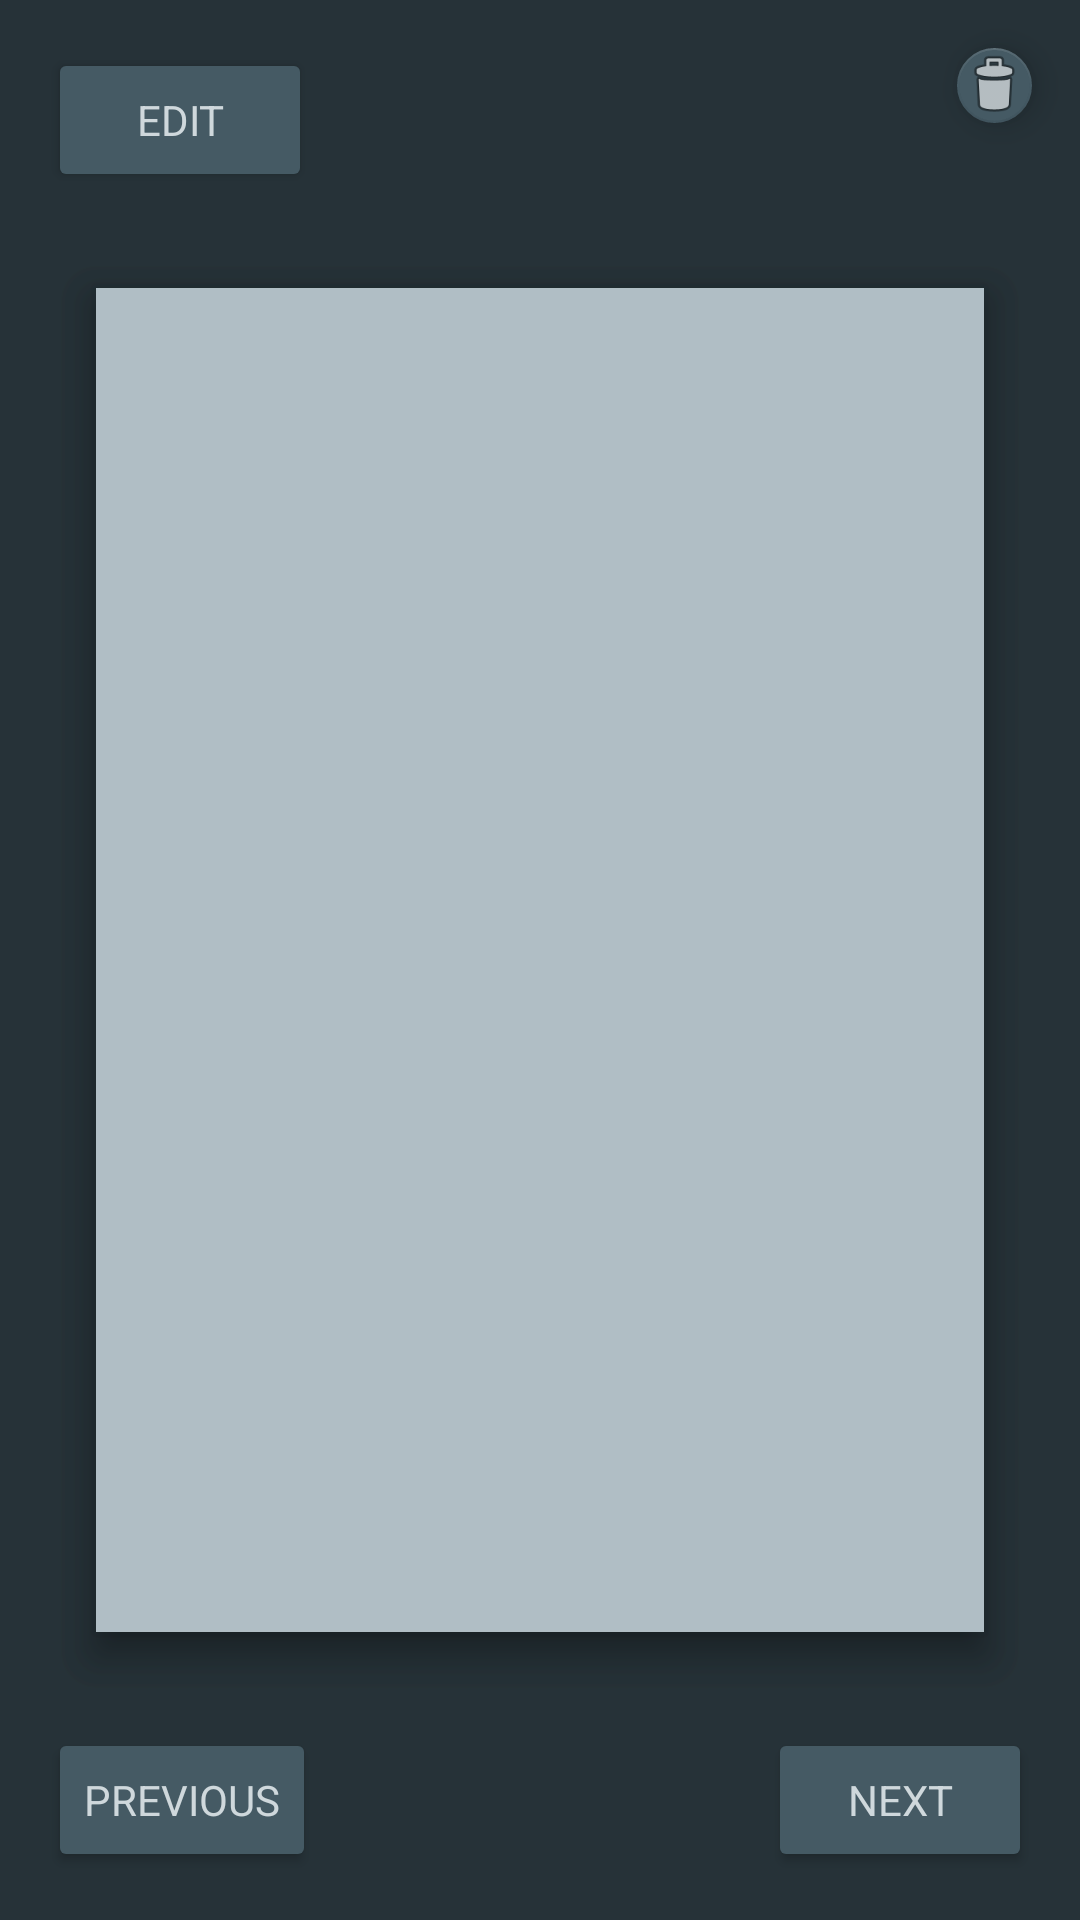

Icon bounding boxes for this 1080w x 1920h phone screenshot, format bbox=[x1, y1, x2, y2]:
delete: bbox=[957, 48, 1032, 123]
